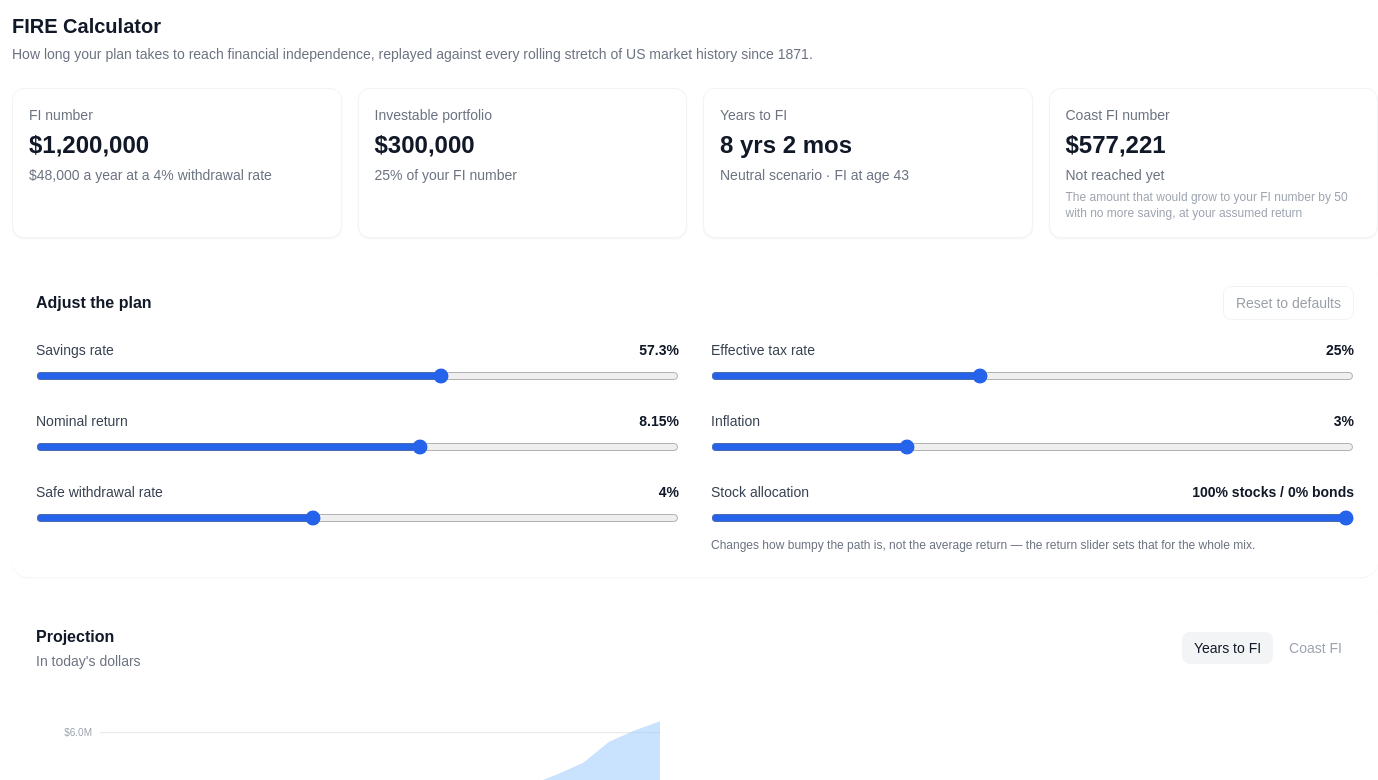
it: FireCalculatorClient › a stock allocation reads as a stocks and bonds split
Expected: the text "100% stocks / 0% bonds" is shown, x1=1192 y1=482 x2=1354 y2=502
Set the slider labelled "Stock allocation" to "60" at (1095,518), box x1=711 y1=510 x2=1354 y2=526
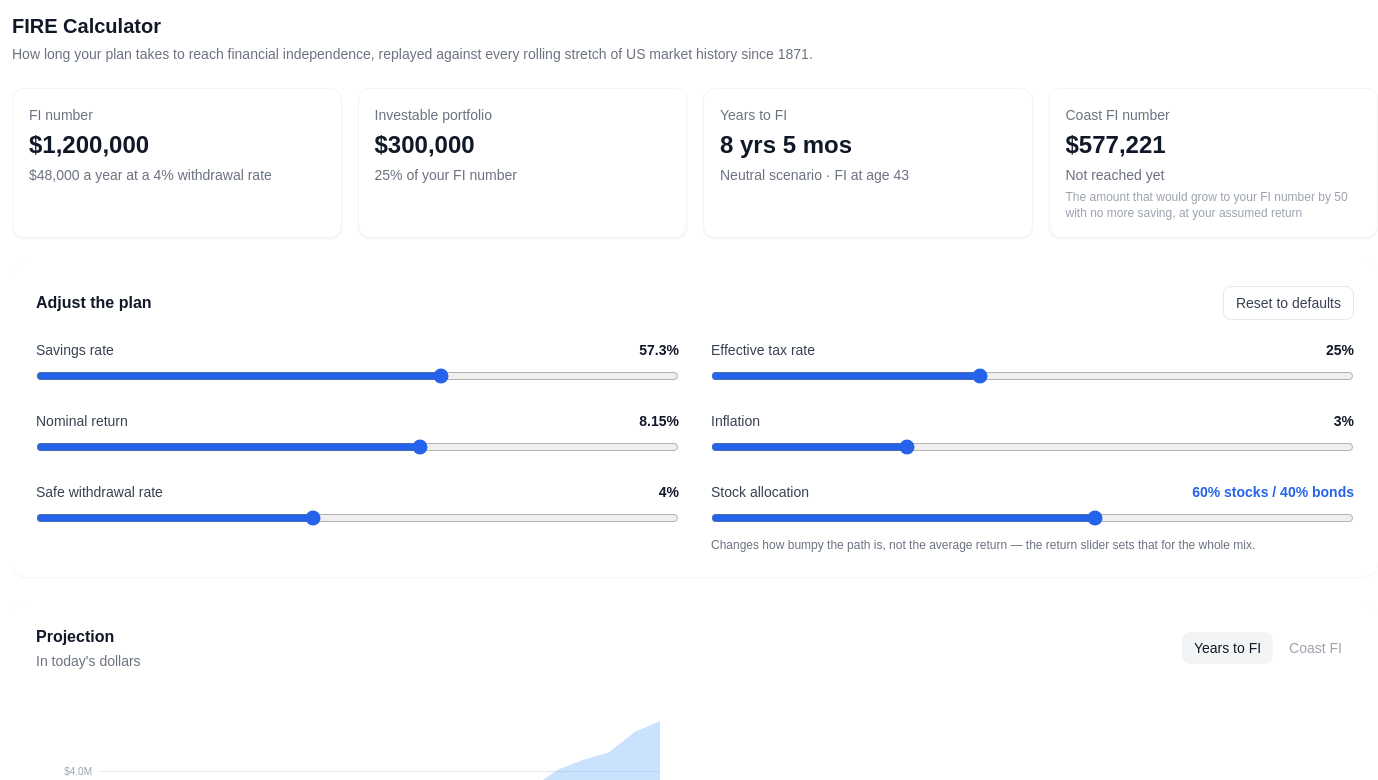
Expected: the text "60% stocks / 40% bonds" is shown, x1=1192 y1=482 x2=1354 y2=502
